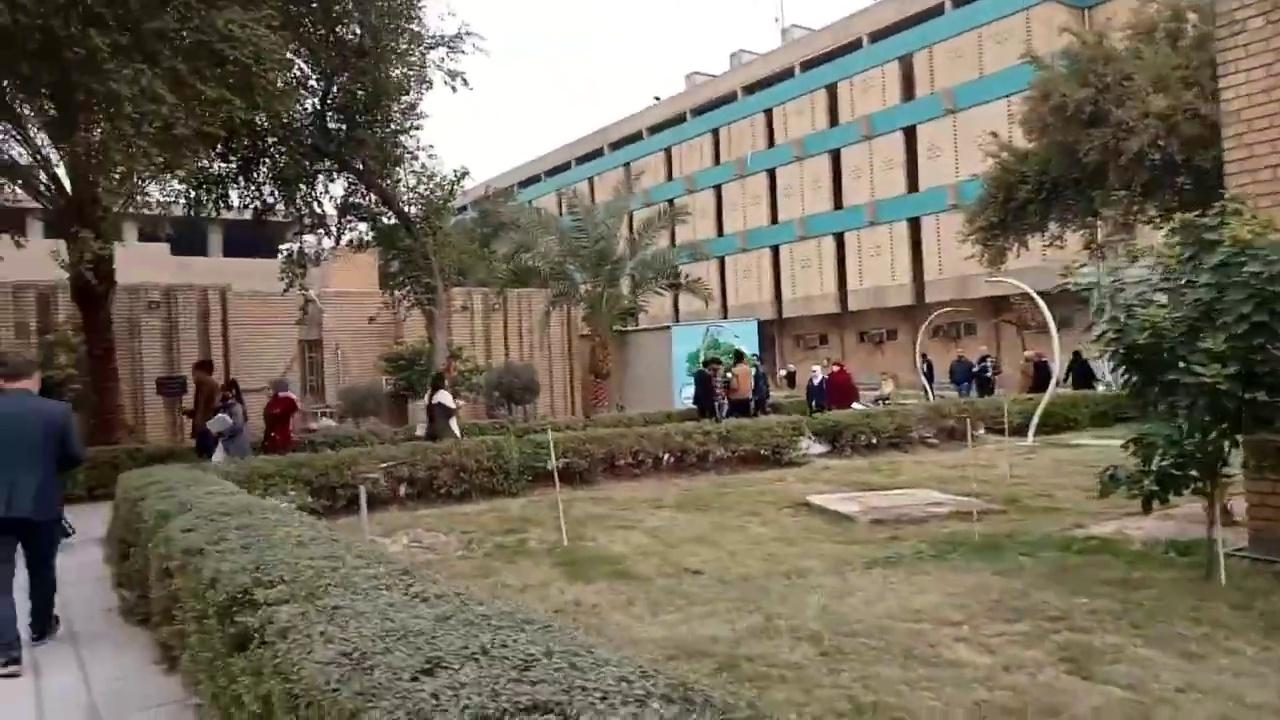person: (0, 351, 88, 677), (181, 359, 220, 459), (210, 377, 251, 462), (260, 377, 303, 455), (423, 371, 464, 442), (725, 348, 753, 418), (824, 358, 859, 410), (1061, 349, 1097, 390), (948, 347, 975, 397), (805, 364, 827, 417), (1029, 351, 1052, 393), (872, 371, 895, 406), (919, 352, 934, 401)
tree: (1, 0, 490, 445), (952, 0, 1278, 583), (103, 456, 760, 718), (953, 0, 1228, 336), (1075, 190, 1279, 584), (489, 168, 713, 417), (365, 165, 508, 427), (376, 336, 484, 435), (480, 358, 540, 420), (684, 332, 738, 378)
